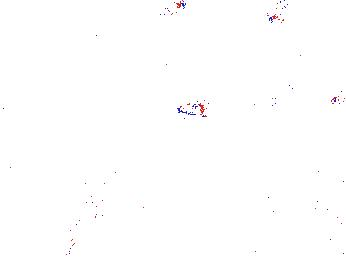X-ray fish: (125, 176, 160, 209)
glassfish: (64, 170, 121, 255), (176, 94, 278, 121)
red belly glassfish: (148, 1, 188, 19), (267, 6, 299, 27), (152, 54, 174, 73), (331, 91, 346, 111)
